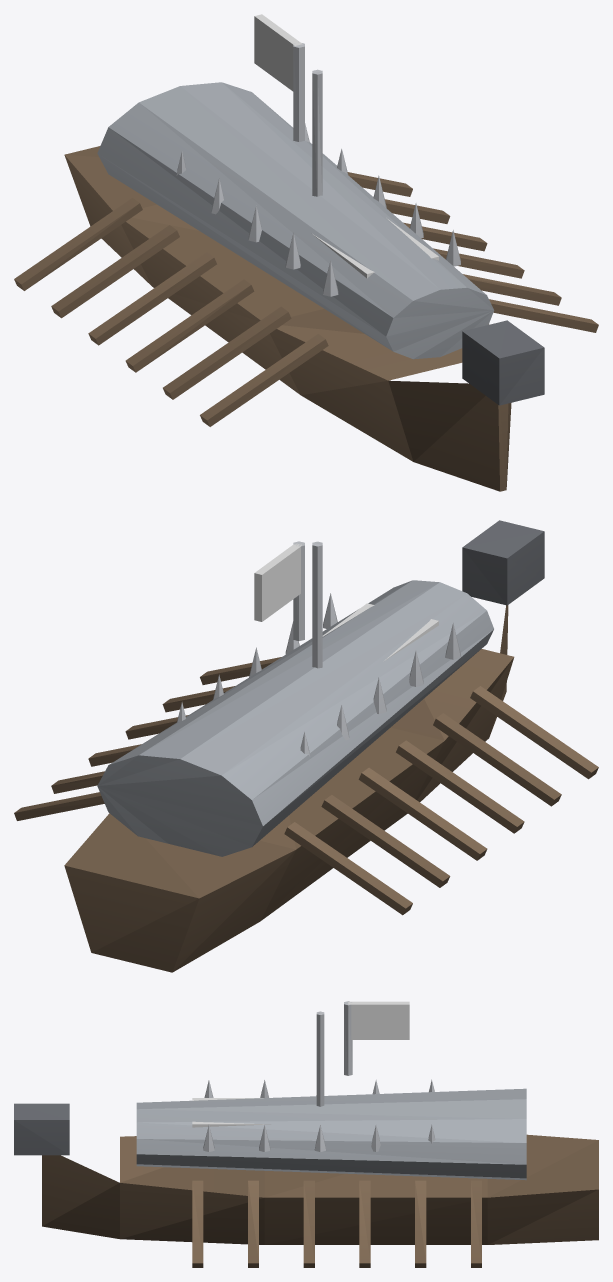
The model's file is Turtle Ship.glb.
3 views of the same model, one above another, from view 1: azimuth 30°, elevation 25°; view 2: azimuth 150°, elevation 25°; view 3: azimuth 270°, elevation 25° (orthographic). The views are drawn at different scales.
Visible parts, largest first — view 1: Body; view 2: Body; view 3: Body.
Part boxes in pixels (x1,y1,x2,y2): Body: (14,14,598,491); Body: (14,520,598,972); Body: (14,1001,598,1267).
Bounding box in the file's own units: 0.6089 × 0.44 × 1.05.
